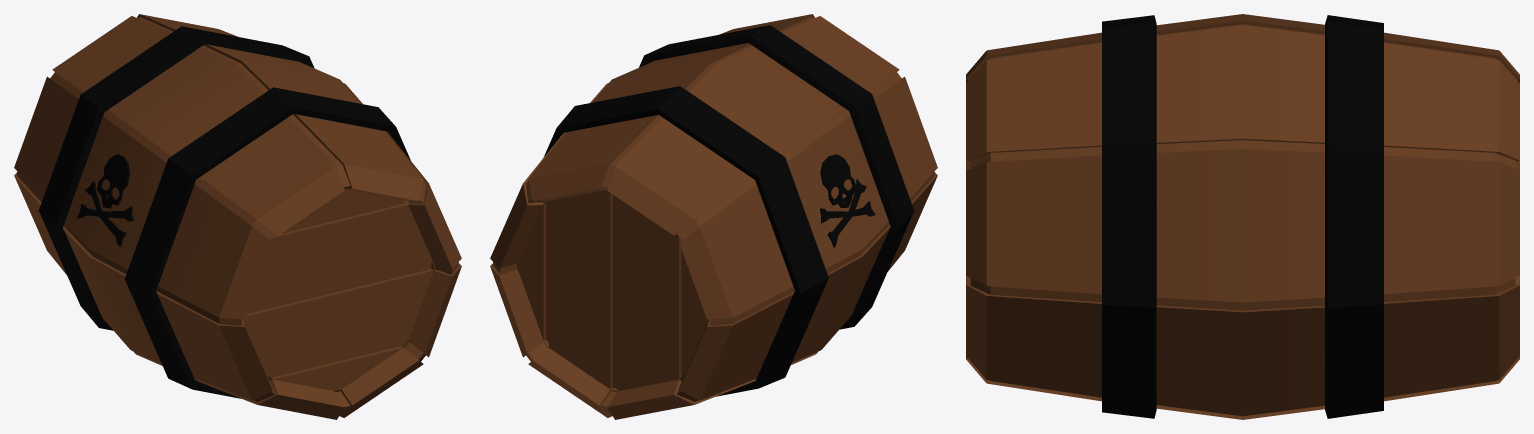
File: GunPowder_Barrel.fbx
3 renders of one model, left to right at view 1: azimuth 30°, elevation 25°; view 2: azimuth 150°, elevation 25°; view 3: azimuth 270°, elevation 25°, orthographic. The views are drawn at different scales.
Visible parts, largest first — view 1: GunPowder_Barrel; view 2: GunPowder_Barrel; view 3: GunPowder_Barrel.
Part boxes in pixels (bbox=[...]): GunPowder_Barrel: bbox=[14, 14, 461, 419]; GunPowder_Barrel: bbox=[490, 14, 937, 419]; GunPowder_Barrel: bbox=[966, 14, 1519, 419].
Bounding box in the file's own units: 76.36 × 76.36 × 98.39.
